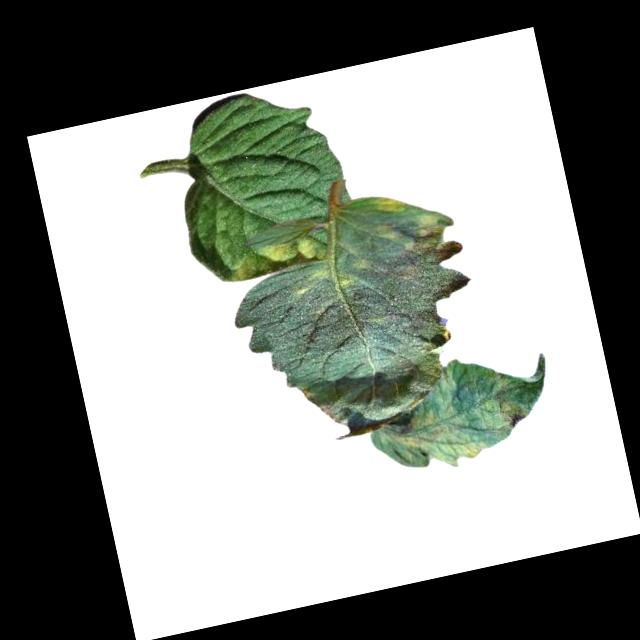Leaf_Mold: (384, 358, 481, 478), (378, 205, 463, 286), (225, 227, 327, 283), (471, 390, 532, 439), (373, 190, 408, 219)
